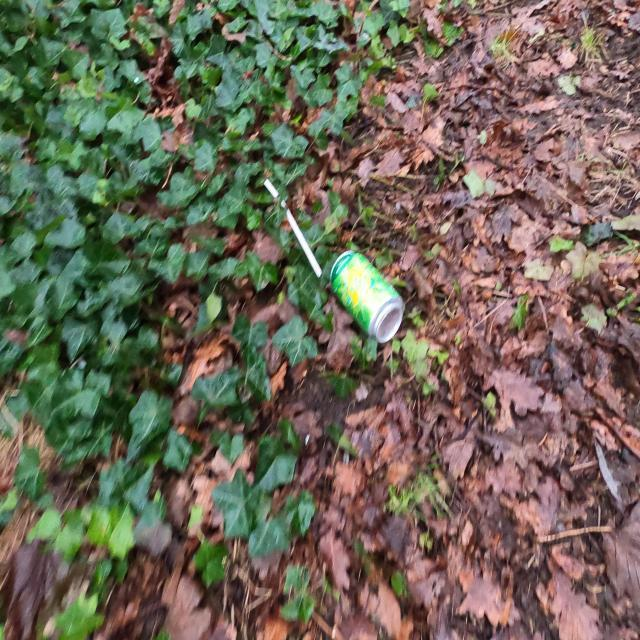Can-Metal: (330, 250, 406, 345)
